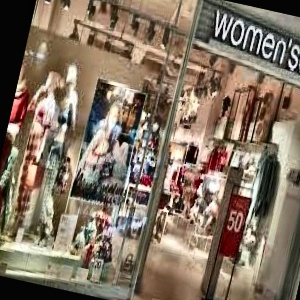women_secret: (184, 0, 300, 34)
